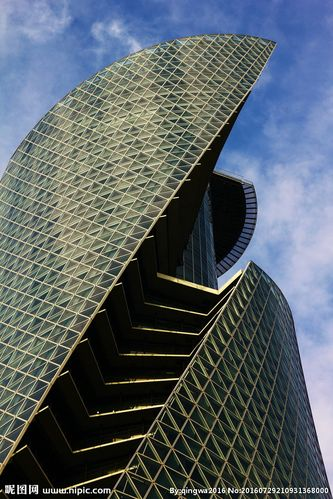buildings: (19, 177, 315, 499), (0, 61, 292, 334)
